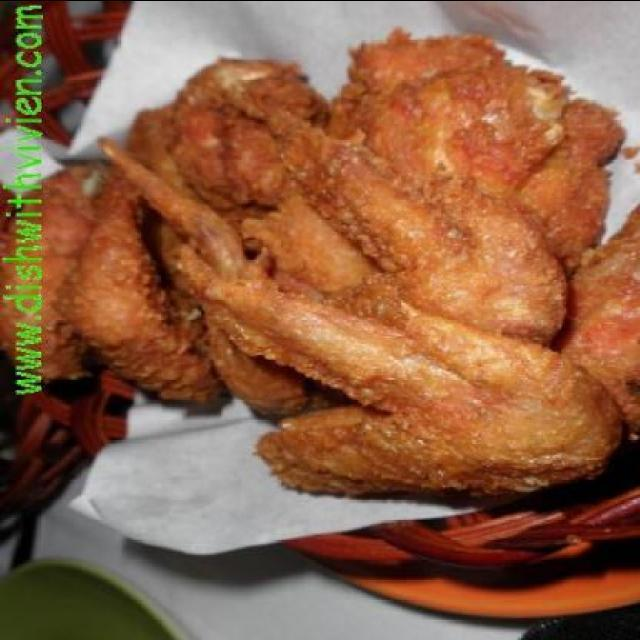Deep fried chicken wing: (64, 39, 627, 506)
